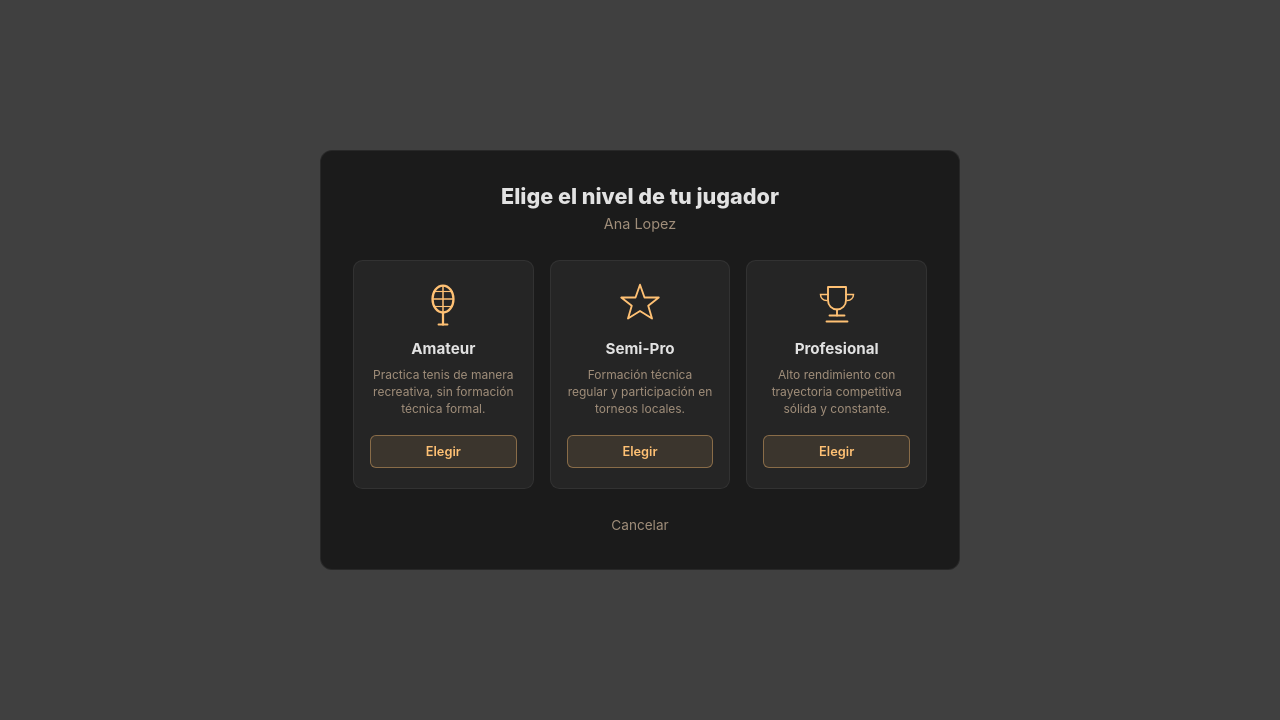
Test: LevelModal › moves to confirmation screen when a level is selected
Click the button "Elegir" below "Amateur": [443, 452] box [370, 435, 517, 468]
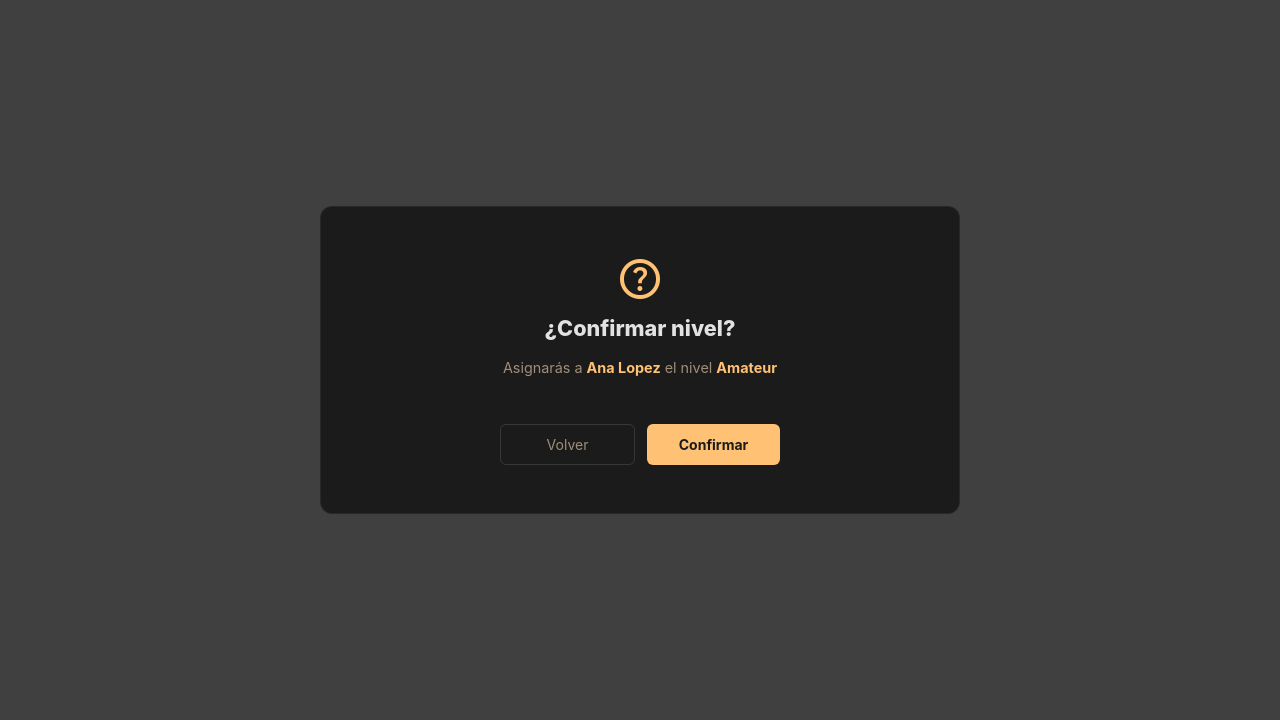
Result: the heading "¿Confirmar nivel?" is shown at [545, 315, 736, 341]
